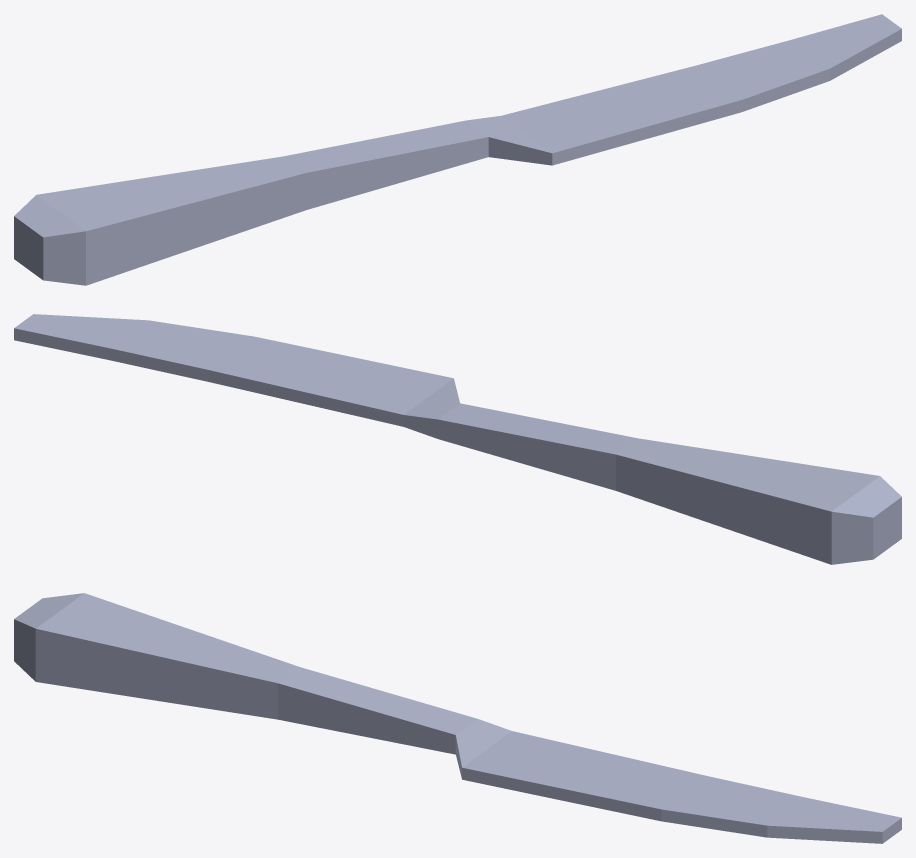
Rendered from prop_butterKnife.fbx.
3 views of the same model, one above another, from view 1: azimuth 30°, elevation 25°; view 2: azimuth 150°, elevation 25°; view 3: azimuth 330°, elevation 25° (orthographic). The views are drawn at different scales.
Visible parts, largest first — view 1: Butter Knife; view 2: Butter Knife; view 3: Butter Knife.
Boxes of the visible parts, x1,y1,x2,y2 form: Butter Knife: (14,14,901,285); Butter Knife: (14,314,901,564); Butter Knife: (14,593,901,843).
Bounding box in the file's own units: 0.152 × 0.00906 × 0.0195.
